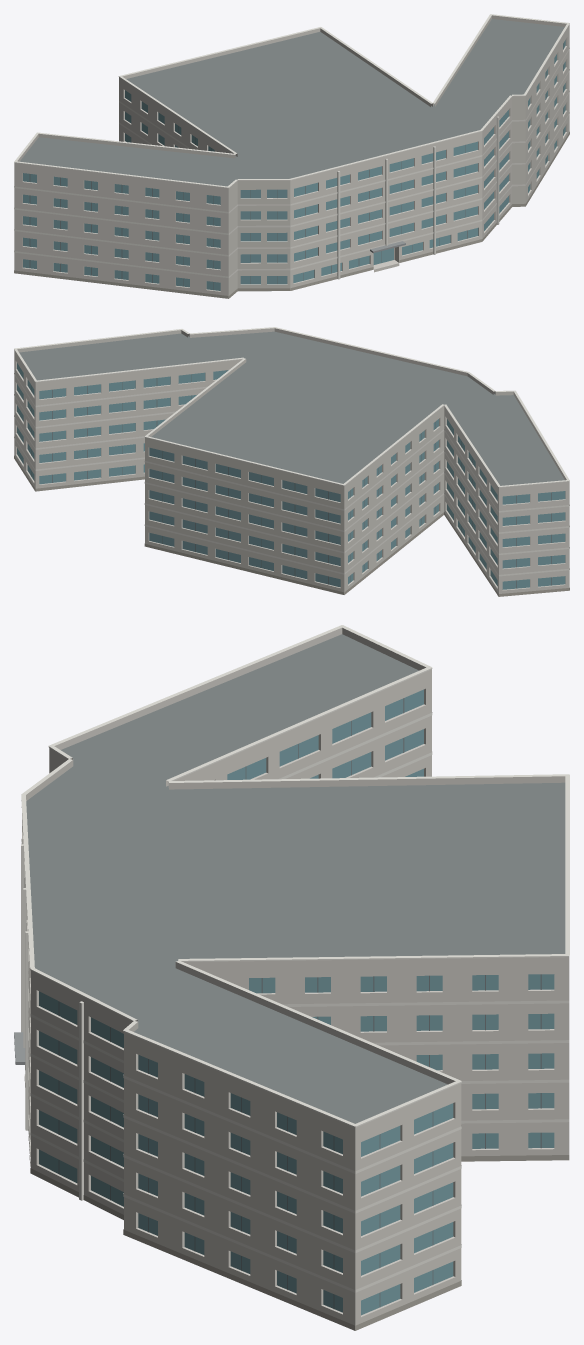
3 renders of one model, top to bottom at view 1: azimuth 30°, elevation 25°; view 2: azimuth 150°, elevation 25°; view 3: azimuth 270°, elevation 25°, orthographic. The views are drawn at different scales.
Parts seen in each view (by area): view 1: aeji__wall, aeji__roof, aeji__glass, aeji__trim, aeji__parapet, aeji__base, aeji__frame; view 2: aeji__wall, aeji__roof, aeji__glass, aeji__trim, aeji__parapet, aeji__base, aeji__frame; view 3: aeji__roof, aeji__wall, aeji__glass, aeji__trim, aeji__parapet, aeji__base, aeji__frame.
Part boxes in pixels (x1,y1,x2,y2): aeji__wall: [14, 27, 569, 298]; aeji__roof: [20, 19, 564, 291]; aeji__glass: [23, 40, 565, 290]; aeji__trim: [14, 14, 569, 279]; aeji__parapet: [14, 15, 569, 190]; aeji__base: [14, 132, 569, 298]; aeji__frame: [29, 43, 563, 289]; aeji__wall: [14, 352, 569, 596]; aeji__roof: [19, 331, 564, 485]; aeji__glass: [17, 363, 565, 589]; aeji__trim: [14, 327, 569, 576]; aeji__parapet: [14, 328, 569, 490]; aeji__base: [14, 456, 569, 596]; aeji__frame: [31, 370, 551, 588]; aeji__roof: [26, 634, 565, 1330]; aeji__wall: [22, 674, 569, 1330]; aeji__glass: [39, 689, 554, 1315]; aeji__trim: [21, 625, 569, 1292]; aeji__parapet: [26, 627, 569, 1132]; aeji__base: [25, 1065, 569, 1330]; aeji__frame: [58, 698, 541, 1308].
Bounding box in the file's own units: 91.01 × 17.7 × 42.64.
